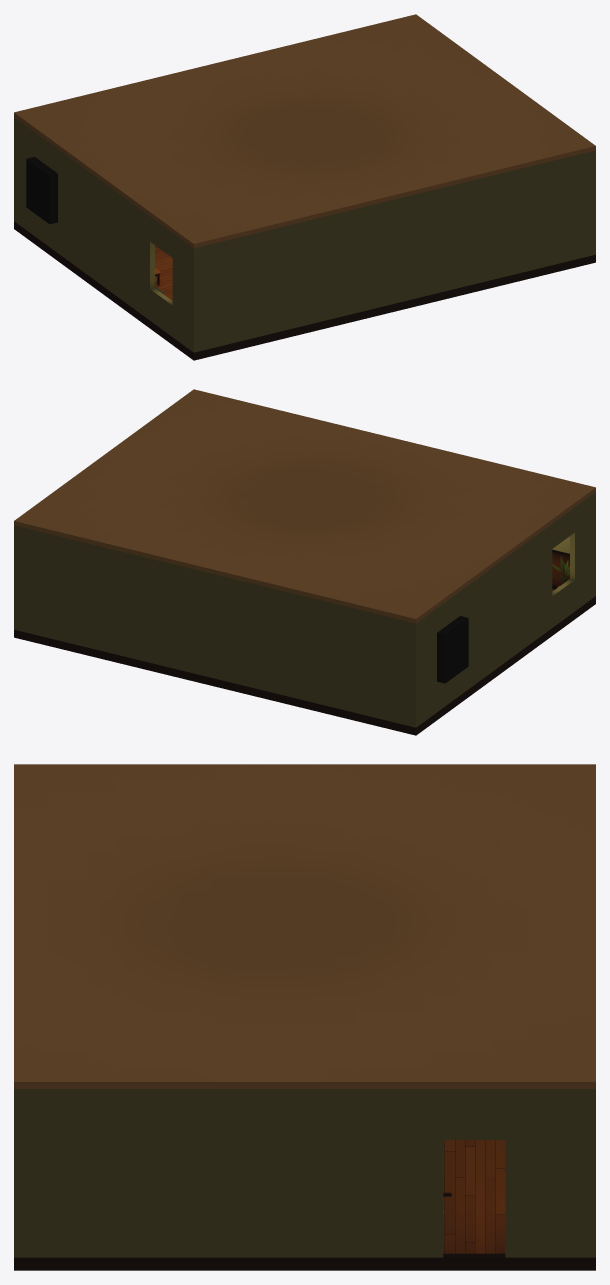
File: mahalle-kahvesi.06eb3e04e807.glb
3 views of the same model, one above another, from view 1: azimuth 30°, elevation 25°; view 2: azimuth 150°, elevation 25°; view 3: azimuth 270°, elevation 25° (orthographic). The views are drawn at different scales.
Parts seen in each view (by area): view 1: ceiling, wall_S, wall_W, floor; view 2: ceiling, wall_N, wall_W, floor, wall_S; view 3: ceiling, wall_E, floor, wall_N, wall_S.
Part boxes in pixels (x1,y1,x2,y2): ceiling: (14, 14, 595, 248); wall_S: (191, 150, 595, 352); wall_W: (16, 119, 190, 350); floor: (14, 221, 595, 360); ceiling: (14, 389, 595, 623); wall_N: (14, 525, 418, 727); wall_W: (419, 494, 593, 725); floor: (14, 589, 595, 735); wall_S: (552, 492, 595, 597); ceiling: (14, 764, 595, 1088); wall_E: (23, 1089, 586, 1257); floor: (14, 1140, 595, 1270); wall_N: (587, 1089, 595, 1257); wall_S: (14, 1089, 22, 1257).
Size of the model in its own units: 13.6 by 3.69 by 10.32.
